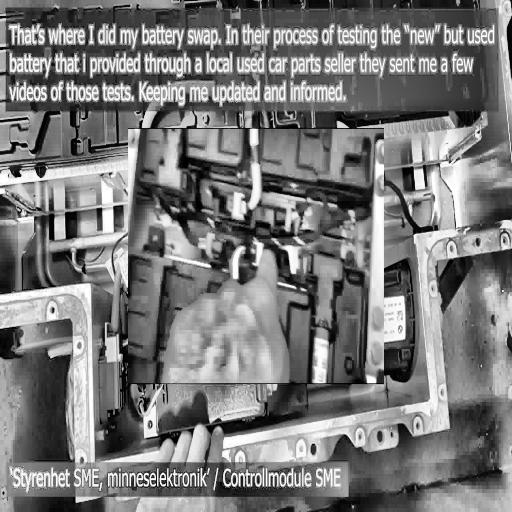b_casing: (0, 0, 512, 508)
